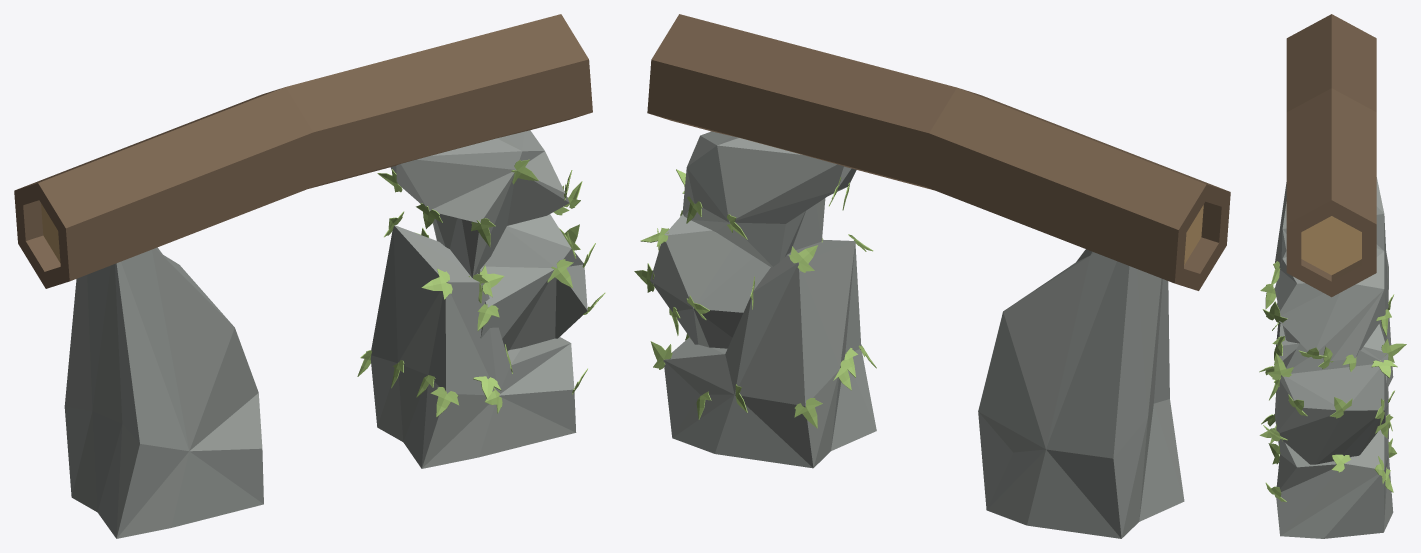
The model's file is Rock_2.fbx.
3 views of the same model, side by side, from view 1: azimuth 30°, elevation 25°; view 2: azimuth 150°, elevation 25°; view 3: azimuth 270°, elevation 25° (orthographic). The views are drawn at different scales.
Parts seen in each view (by area): view 1: Rock_2; view 2: Rock_2; view 3: Rock_2.
Boxes of the visible parts, box(x1,y1,x2,y2) form: Rock_2: box(14, 14, 605, 538); Rock_2: box(634, 14, 1230, 538); Rock_2: box(1259, 14, 1406, 538).
Size of the model in its own units: 363 by 251 by 98.28.
1 material, 1 textured.
